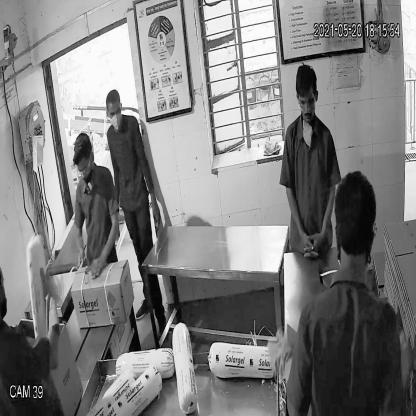goggles: (293, 85, 318, 113), (72, 157, 97, 179)
